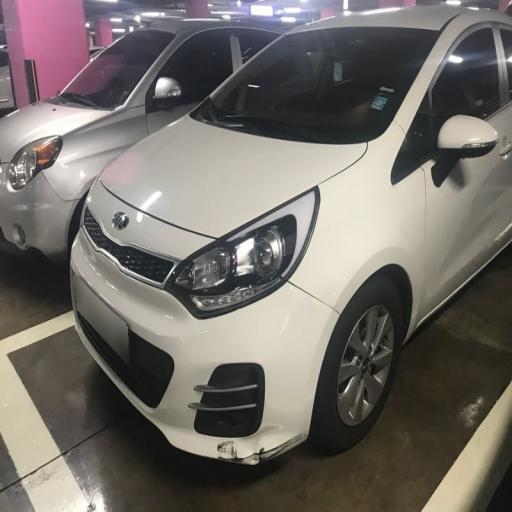scratch: (195, 420, 307, 471)
